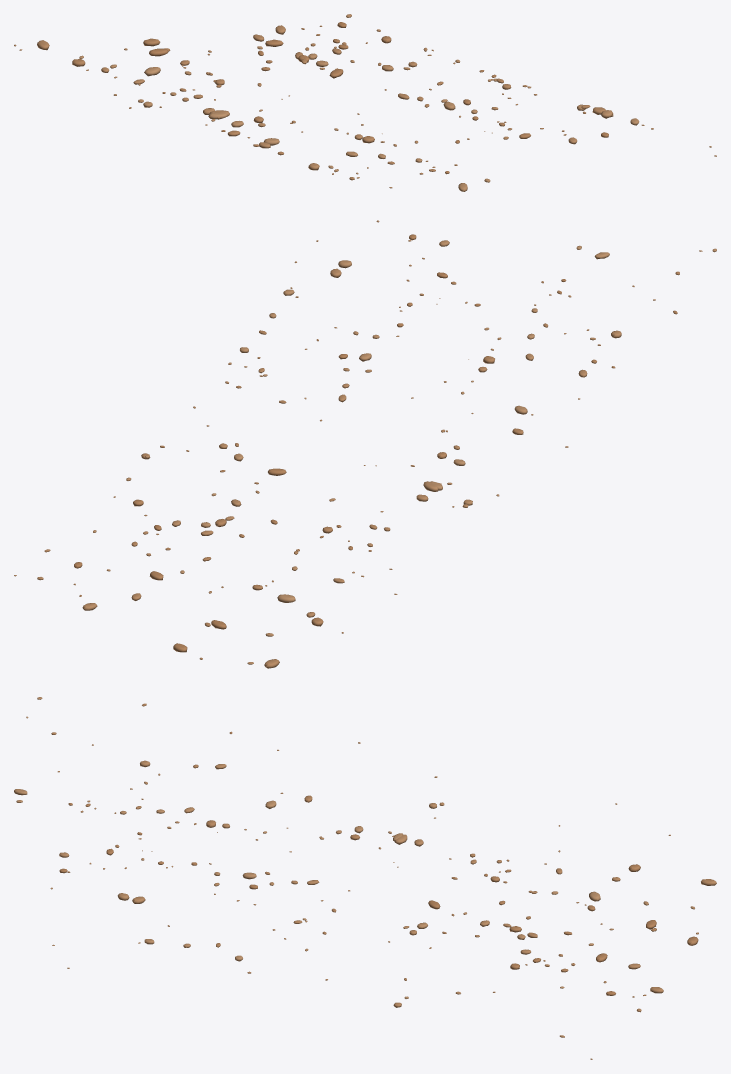
Rendered from terrain-095.glb.
The picture shows the model from 3 angles, top to bottom: view 1: azimuth 30°, elevation 25°; view 2: azimuth 150°, elevation 25°; view 3: azimuth 270°, elevation 25°; orthographic projection. The views are drawn at different scales.
Parts seen in each view (by area): view 1: terrain-095; view 2: terrain-095; view 3: terrain-095.
Part boxes in pixels (left/top/right/bottom): terrain-095: left=14, top=14, right=716, bottom=191; terrain-095: left=14, top=220, right=716, bottom=668; terrain-095: left=14, top=697, right=716, bottom=1059.
Bounding box in the file's own units: 42.79 × 19.12 × 65.9.
